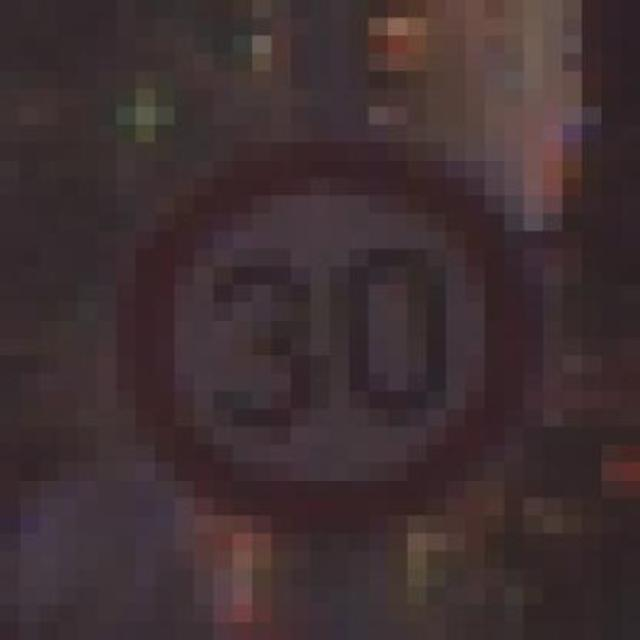Speed Limit 30 KMPh: (78, 107, 562, 551)
